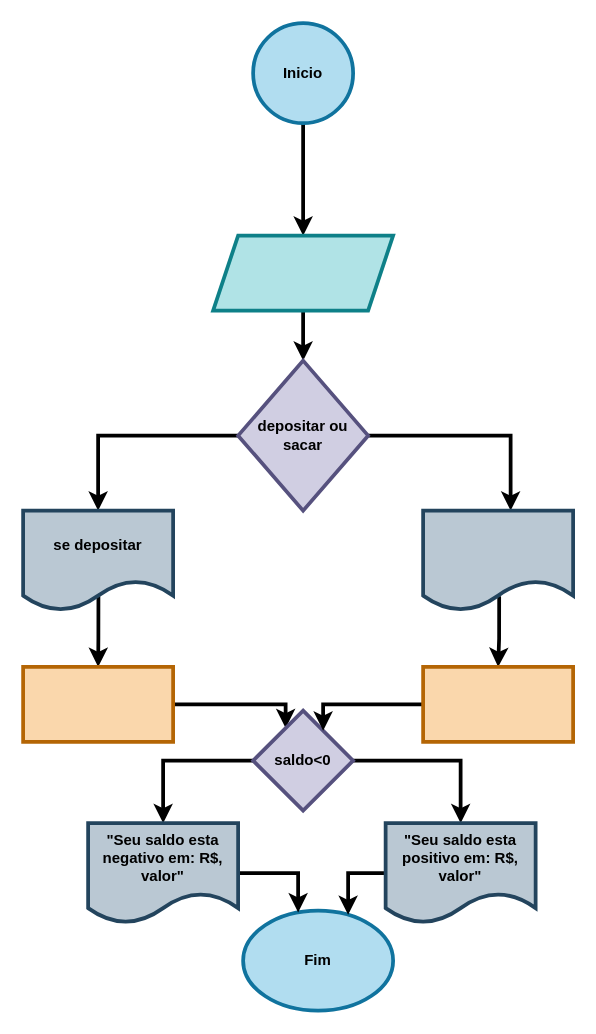
Image size: 596x1034. Some labels were removed from this diagram. The box of each missing label's shape, as (x1, y1, x2, y2) in pixels:
saldo+valor: (21, 664, 174, 743)
saldo, valor, opcão: (211, 233, 394, 312)
saldo-valor: (421, 664, 574, 743)
se sacar: (421, 508, 574, 612)
